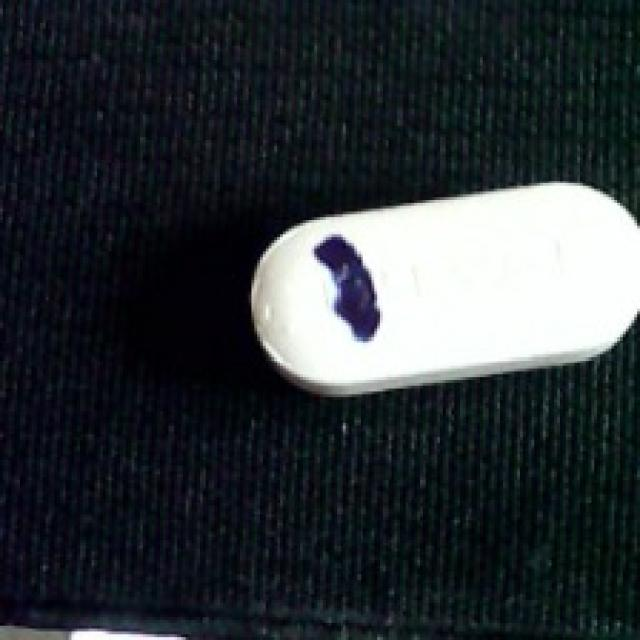defected: (240, 186, 637, 397)
